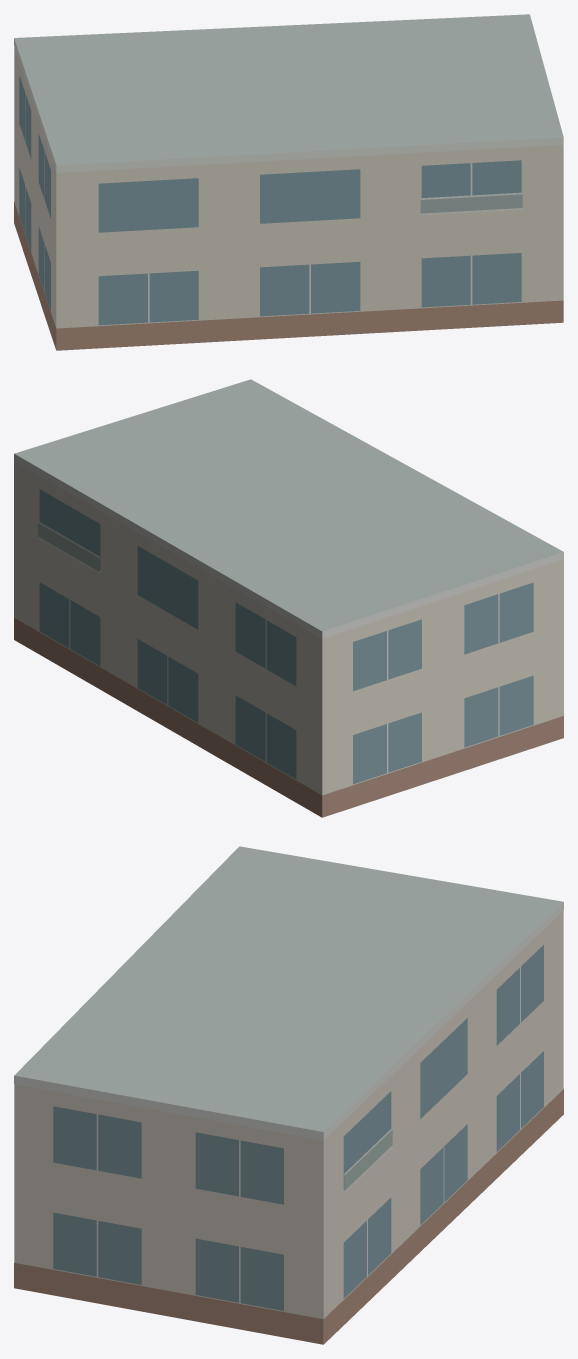
File: survey-upis-32882021.glb
The picture shows the model from 3 angles, top to bottom: view 1: azimuth 30°, elevation 25°; view 2: azimuth 150°, elevation 25°; view 3: azimuth 270°, elevation 25°; orthographic projection. The views are drawn at different scales.
Visible parts, largest first — view 1: survey-upis-32882021.tmp; view 2: survey-upis-32882021.tmp; view 3: survey-upis-32882021.tmp.
Part boxes in pixels (box(x1,y1,x2,y2)): survey-upis-32882021.tmp: box(14, 14, 563, 350); survey-upis-32882021.tmp: box(14, 379, 563, 817); survey-upis-32882021.tmp: box(14, 846, 563, 1344).
Bounding box in the file's own units: 17.6 × 6.1 × 14.3.
